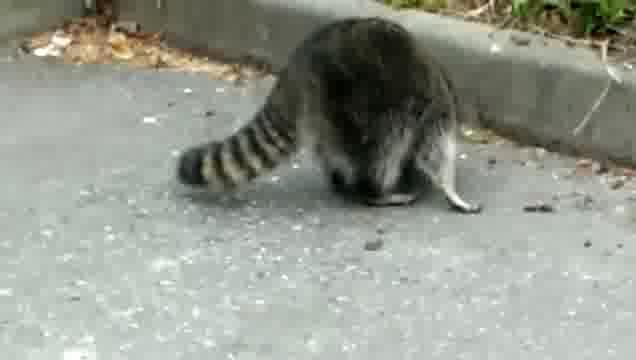raccoon: (176, 12, 487, 223)
